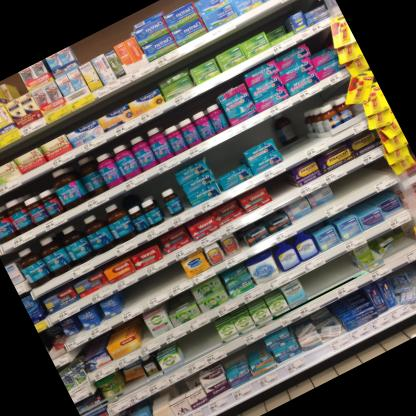empty_space: (115, 261, 190, 314), (327, 155, 392, 204), (296, 247, 359, 296), (265, 108, 314, 159), (175, 322, 224, 362), (262, 170, 297, 204), (401, 258, 416, 294)
